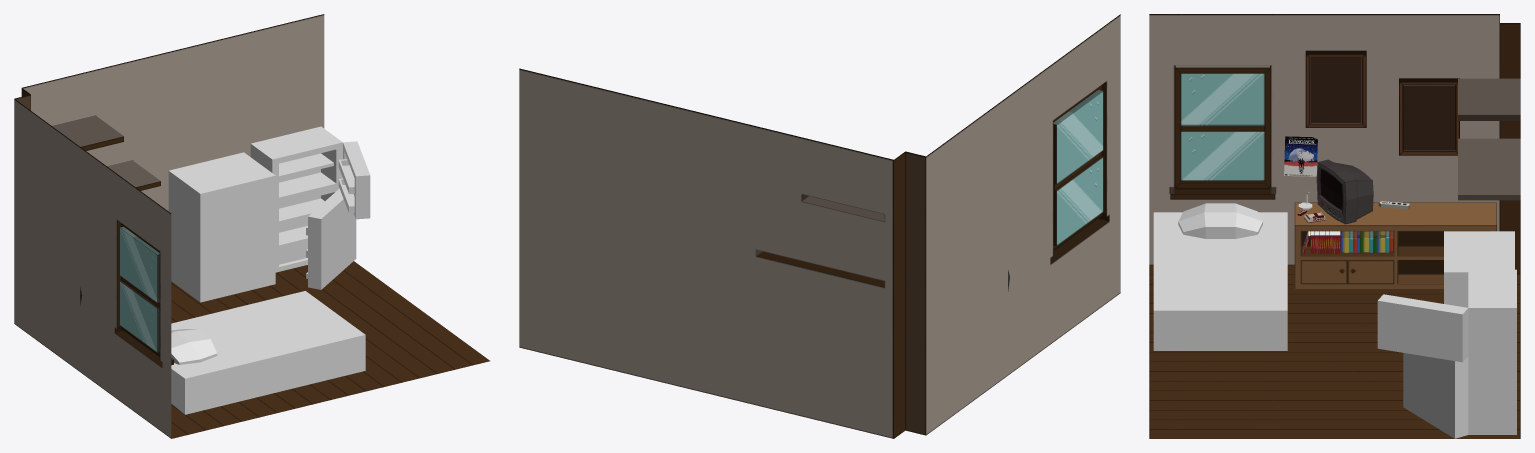
The model's file is Eto_room.fbx.
3 renders of one model, left to right at view 1: azimuth 30°, elevation 25°; view 2: azimuth 150°, elevation 25°; view 3: azimuth 270°, elevation 25°, orthographic. The views are drawn at different scales.
Visible parts, largest first — view 1: wall, bed, Cube.005, Cube.004, Cube.001, Cube.006; view 2: wall; view 3: wall, bed, shelf, Cube.004, Cube.006, frame, frame.001, Cube.001, Cube.005, tv, poster_eva, manga1.
Part boxes in pixels (<box>): wall: <box>14,14,489,438</box>; bed: <box>171,291,365,414</box>; Cube.005: <box>168,152,275,302</box>; Cube.004: <box>250,126,342,272</box>; Cube.001: <box>306,188,356,289</box>; Cube.006: <box>338,141,370,219</box>; wall: <box>519,14,1120,438</box>; wall: <box>1149,14,1520,438</box>; bed: <box>1153,203,1287,350</box>; shelf: <box>1294,202,1496,288</box>; Cube.004: <box>1468,269,1516,434</box>; Cube.006: <box>1377,294,1468,362</box>; frame: <box>1305,50,1366,127</box>; frame.001: <box>1399,78,1459,155</box>; Cube.001: <box>1403,353,1468,438</box>; Cube.005: <box>1444,231,1514,307</box>; tv: <box>1316,159,1373,224</box>; poster_eva: <box>1284,136,1317,176</box>; manga1: <box>1303,231,1340,253</box>.
Size of the model in its own units: 363 by 240 by 319.
